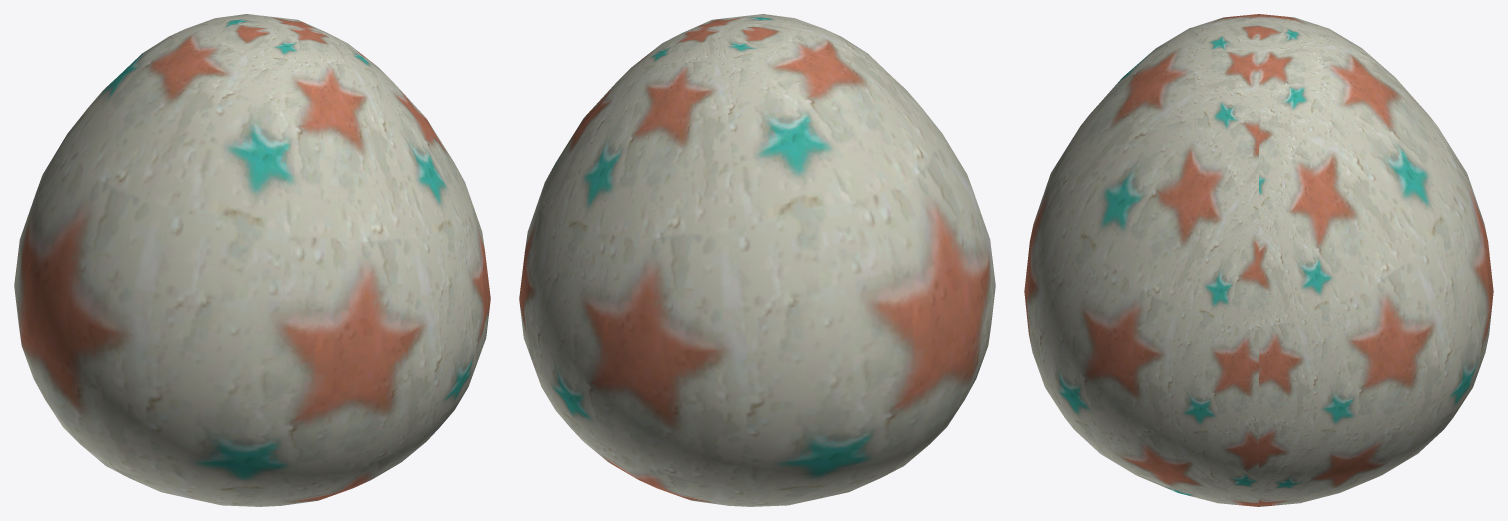
The model's file is Egg.glb.
3 renders of one model, left to right at view 1: azimuth 30°, elevation 25°; view 2: azimuth 150°, elevation 25°; view 3: azimuth 270°, elevation 25°, orthographic.
Visible parts, largest first — view 1: m0; view 2: m0; view 3: m0.
Part boxes in pixels (box(x1,y1,x2,y2)): m0: box(14, 14, 490, 506); m0: box(519, 14, 995, 506); m0: box(1024, 14, 1493, 506).
Bounding box in the file's own units: 16.5 × 17.46 × 16.5.
Materials: 1 (1 with a texture image).
